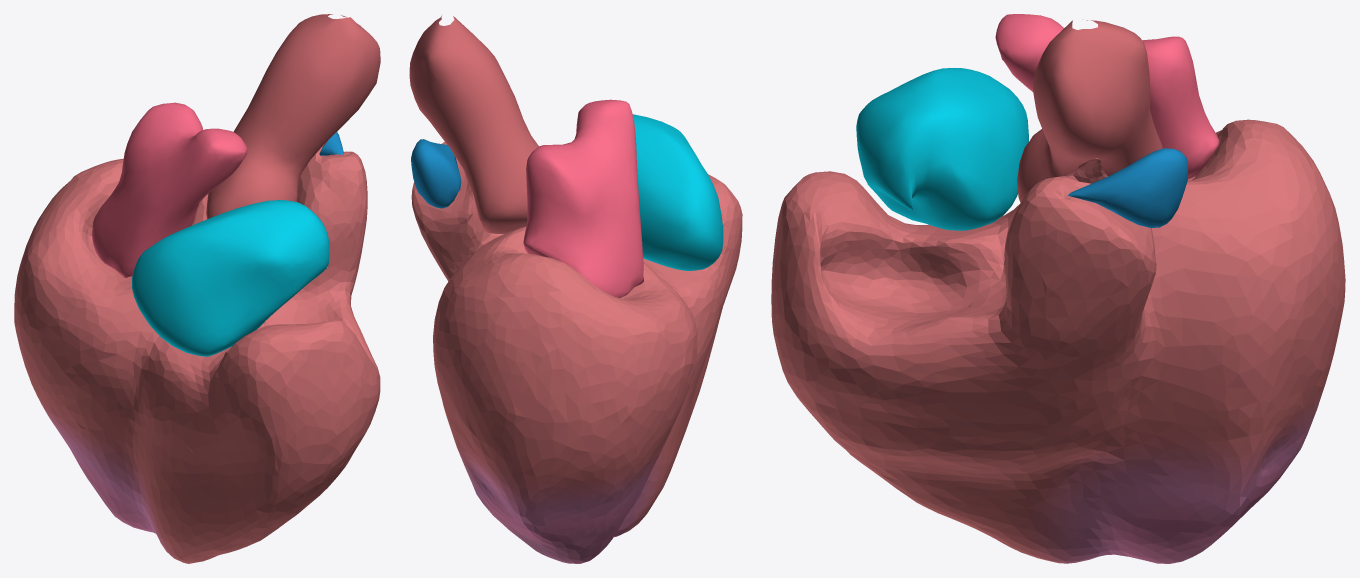
The model's file is frame_64.glb.
3 renders of one model, left to right at view 1: azimuth 30°, elevation 25°; view 2: azimuth 150°, elevation 25°; view 3: azimuth 270°, elevation 25°, orthographic. The views are drawn at different scales.
Visible parts, largest first — view 1: Renderer Node; view 2: Renderer Node; view 3: Renderer Node.
Part boxes in pixels (<box>): Renderer Node: <box>14,14,380,563</box>; Renderer Node: <box>409,16,742,563</box>; Renderer Node: <box>771,14,1345,563</box>.
Bounding box in the file's own units: 102 × 158 × 129.
